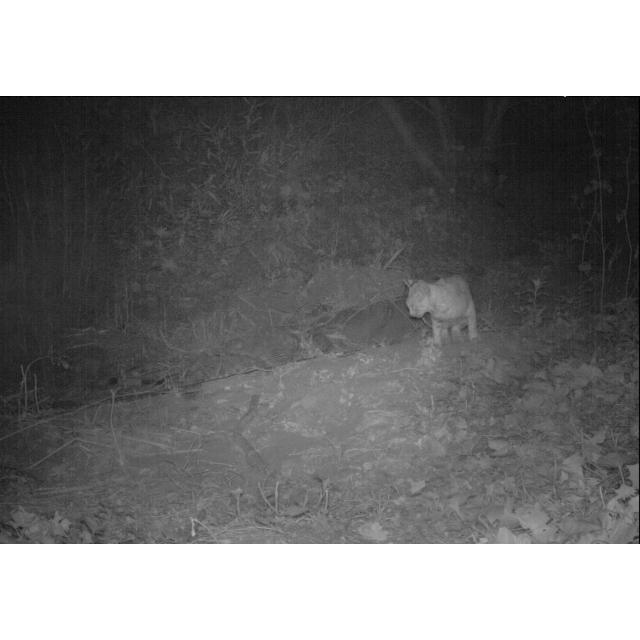animals: (408, 271, 478, 351)
